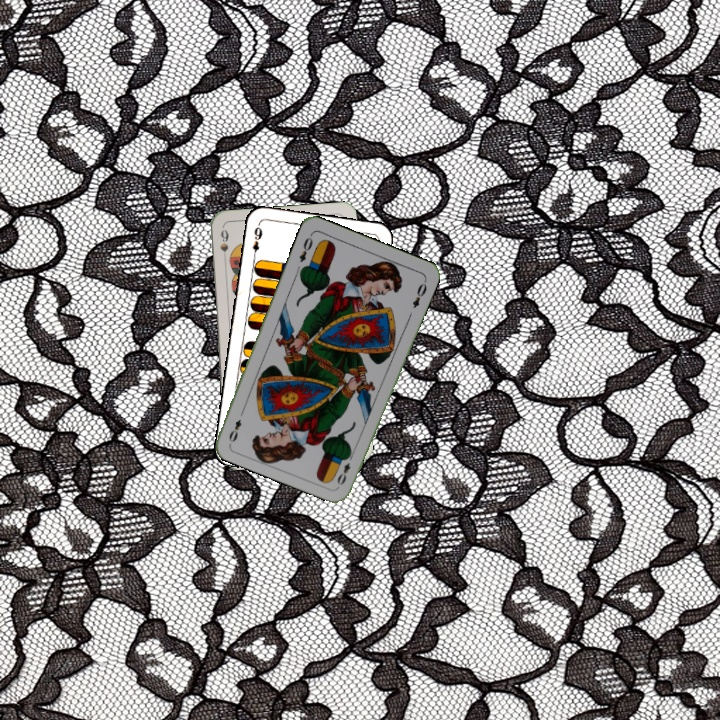E9: (248, 221, 265, 262)
EO: (333, 449, 356, 488), (295, 230, 315, 265)
S9: (216, 225, 231, 266)
